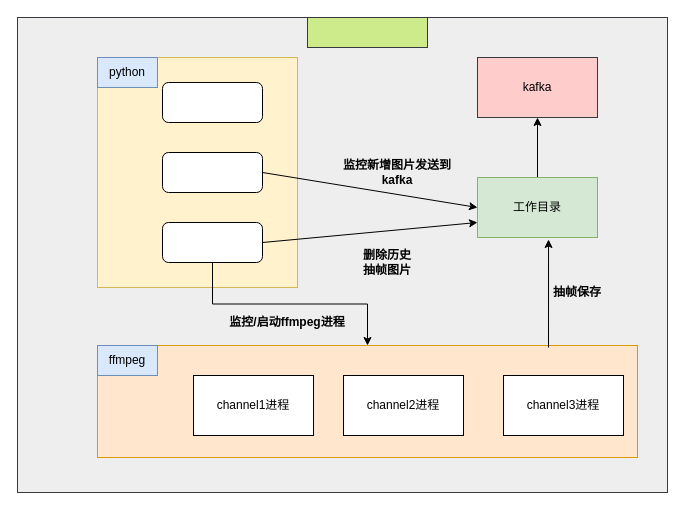
The diagram is 685 pixels wide and 510 high, and some of its shapes have lost their labels. The centre of each missing label's shape, as x and y in pixels:
"主线程" belongs at pixel 212 102.
"定时器线程" belongs at pixel 212 242.
"抽帧系统结构图" belongs at pixel 367 32.
"看门狗线程" belongs at pixel 212 172.
